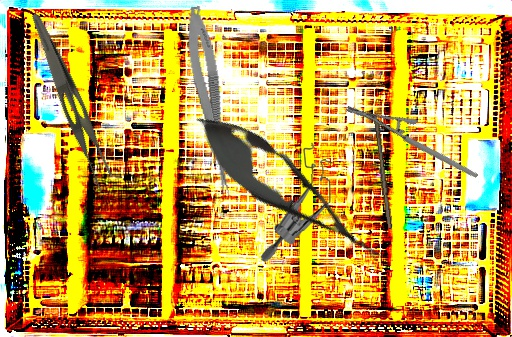Dressing Forceps: (11, 11, 126, 195)
Micro Scissor: (178, 96, 400, 283), (179, 4, 243, 201)
Needle Holder: (344, 73, 479, 212)
Scalpel Handle: (370, 118, 395, 230)
Speculum: (259, 140, 335, 265)
